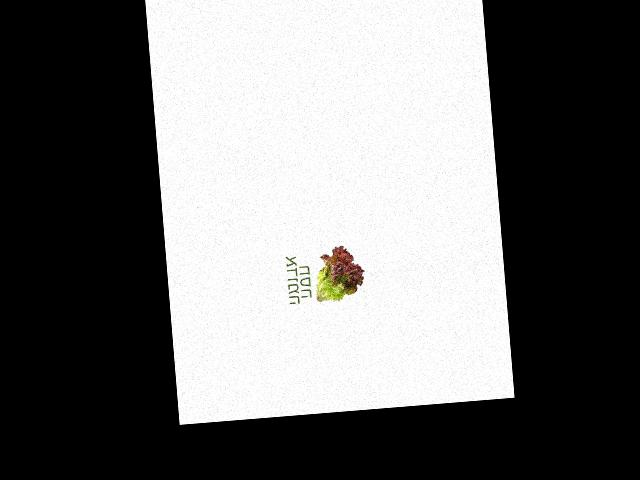lettuce: (310, 242, 367, 308)
